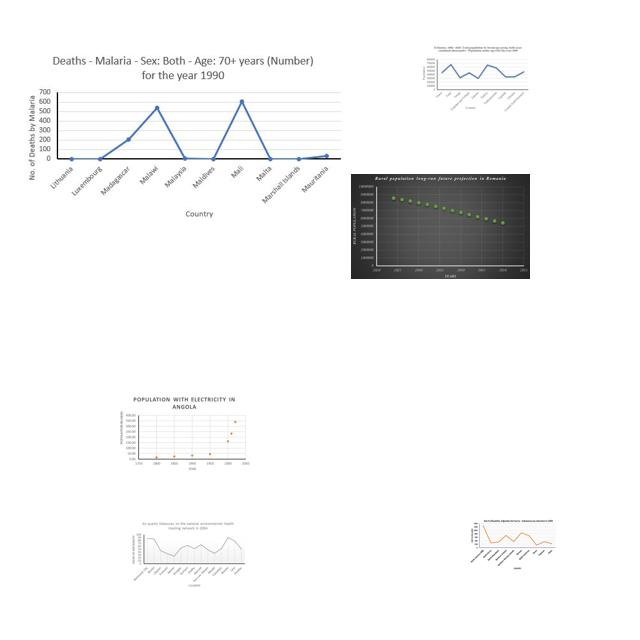Graph: (22, 50, 346, 224), (351, 174, 530, 279), (116, 393, 253, 475), (129, 520, 246, 589), (421, 45, 532, 113), (469, 517, 557, 571)
